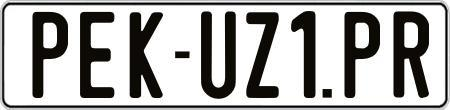1: (288, 11, 312, 99)
E: (80, 9, 120, 97)
K: (127, 10, 165, 101)
P: (344, 10, 384, 97), (32, 9, 71, 98)
R: (392, 10, 433, 100)
U: (198, 11, 237, 100)
Z: (245, 9, 283, 101)
